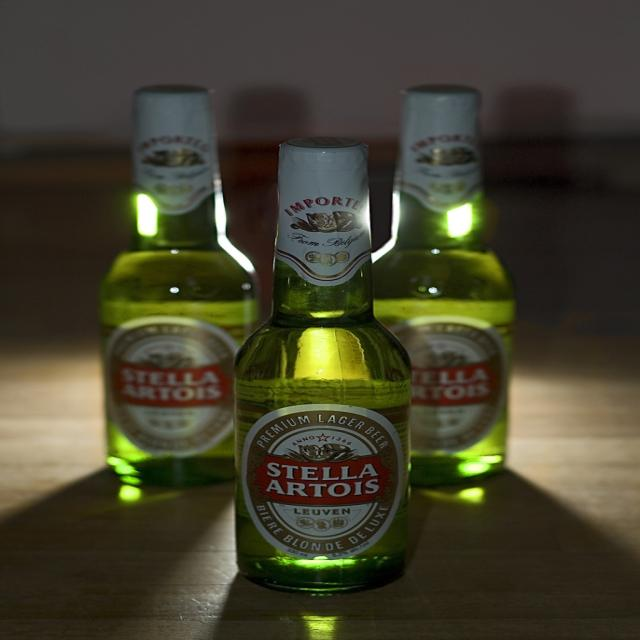stellaartois: (245, 411, 401, 557), (105, 324, 233, 455), (392, 324, 512, 451)
